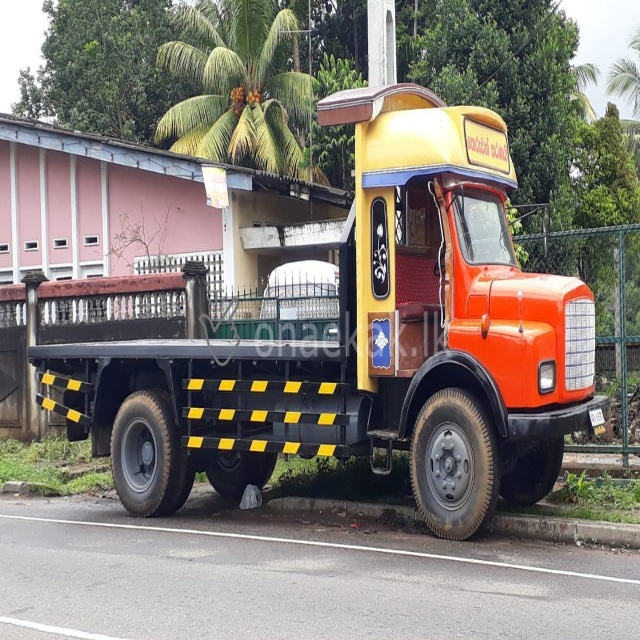Truck: (27, 82, 610, 541)
